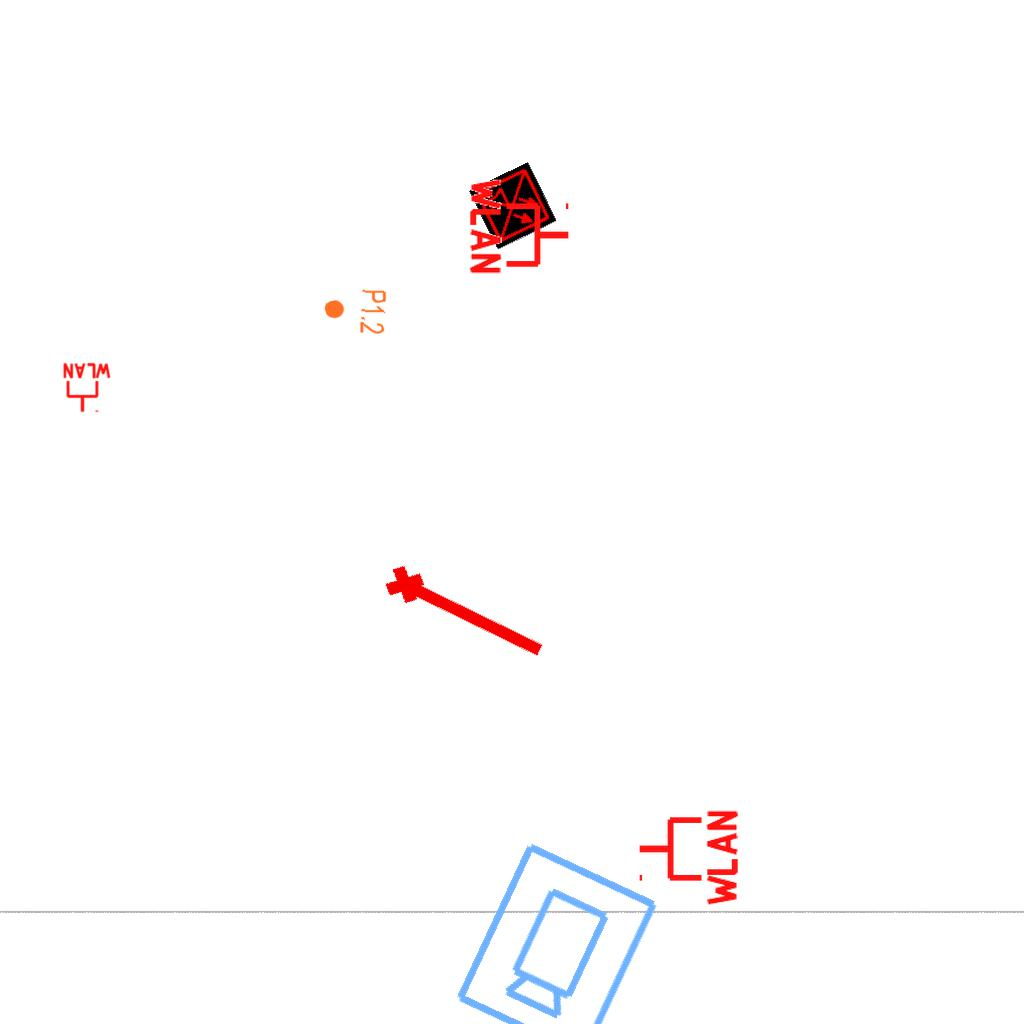ASR_Ansaugoeffnung: (377, 552, 557, 672)
Downlight_LED_Einbauleuchten_Flur: (321, 286, 389, 336)
KFO_Kamera_mit_Festobjektiv: (447, 834, 665, 1024)
OKW_Multisensormelder_(Kombination_optischer_Rauch-Kahlenmonoxid_Waerme-Melder): (468, 161, 558, 251)
WLAN: (635, 806, 740, 910), (468, 174, 573, 278), (61, 362, 113, 414)
